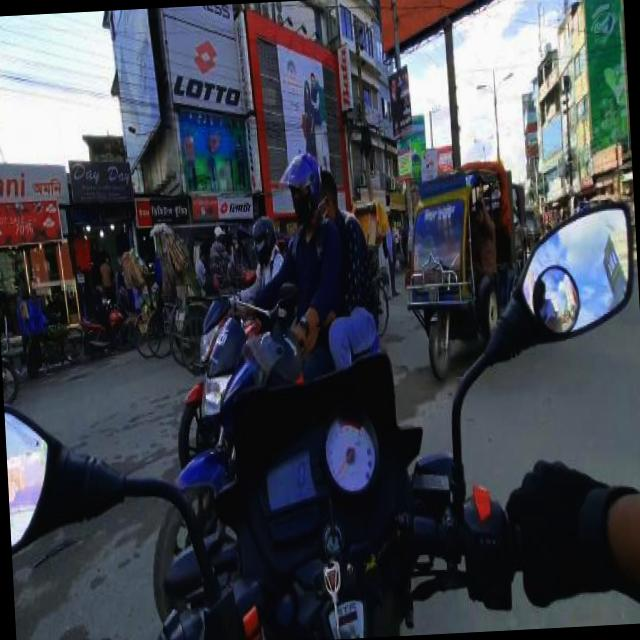motorcycle: (136, 310, 394, 614), (398, 166, 514, 382), (168, 286, 230, 458), (152, 223, 202, 369), (120, 246, 166, 356), (364, 199, 390, 335), (80, 306, 136, 356)
